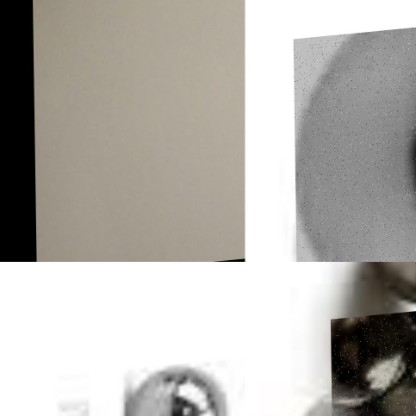ironball: (292, 20, 415, 261), (110, 341, 229, 415), (329, 317, 415, 415), (286, 362, 415, 415), (378, 261, 415, 305)
